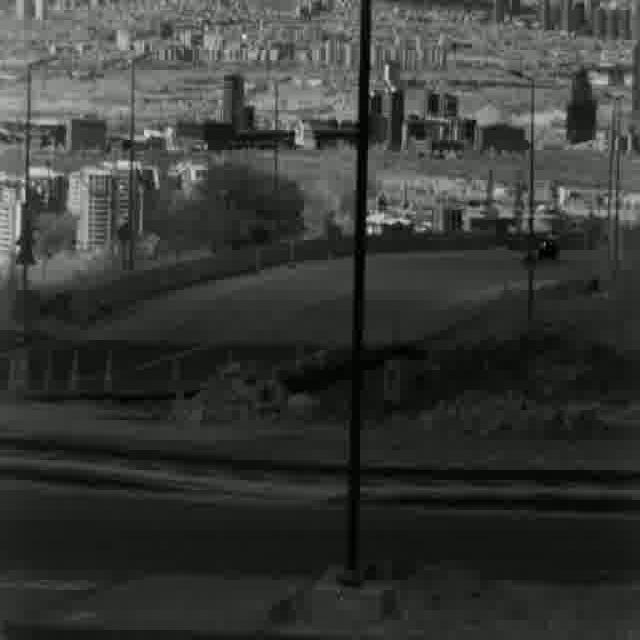Motorcycle: (532, 234, 562, 270)
